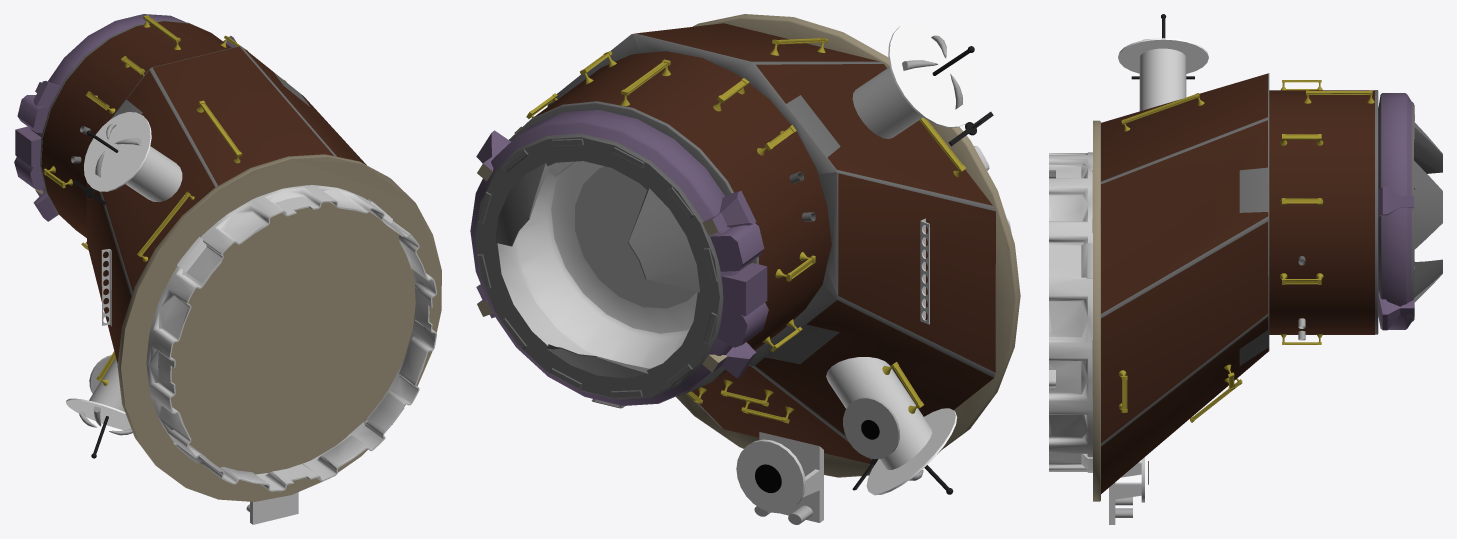
File: PMA3.FBX
The picture shows the model from 3 angles, left to right: view 1: azimuth 30°, elevation 25°; view 2: azimuth 150°, elevation 25°; view 3: azimuth 270°, elevation 25°; orthographic projection. The views are drawn at different scales.
Parts seen in each view (by area): view 1: pma3; view 2: pma3; view 3: pma3.
Part boxes in pixels (bbox=[...]): pma3: bbox=[14, 14, 441, 524]; pma3: bbox=[470, 14, 1020, 524]; pma3: bbox=[1049, 14, 1442, 524].
Bounding box in the file's own units: 2.52 × 3.03 × 2.57.
